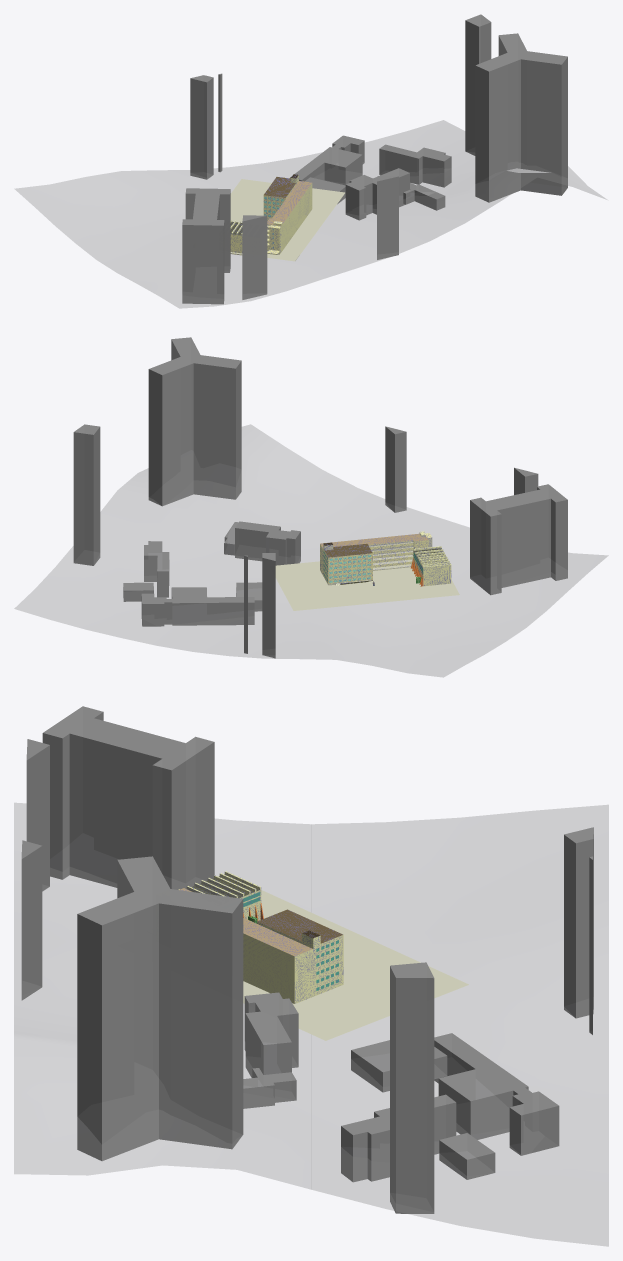
Rendered from Output_STMC_cad(Overlay).dae.
The picture shows the model from 3 angles, top to bottom: view 1: azimuth 30°, elevation 25°; view 2: azimuth 150°, elevation 25°; view 3: azimuth 270°, elevation 25°; orthographic projection. The views are drawn at different scales.
Parts seen in each view (by area): view 1: group_85, group_14, group_4, image_0, STMC_import (×4), group_49, group_15, group_22, group_16, group_70, group_51, group_65 (+2 smaller); view 2: group_85, group_14, group_4, image_0, STMC_import (×5), group_15, group_16, group_65, group_51, group_49, group_22, group_70 (+2 smaller); view 3: group_85, group_14, group_4, group_15, group_16, STMC_import (×4), image_0, group_49, group_65, group_22, group_51, group_70 (+4 smaller).
Part boxes in pixels (bbox=[...]): group_85: bbox=[15, 120, 606, 308]; group_14: bbox=[475, 33, 567, 202]; group_4: bbox=[182, 188, 230, 304]; image_0: bbox=[230, 179, 344, 261]; STMC_import (×4): bbox=[230, 175, 312, 255]; group_49: bbox=[190, 75, 213, 179]; group_15: bbox=[465, 14, 491, 155]; group_22: bbox=[379, 144, 451, 187]; group_16: bbox=[290, 135, 364, 184]; group_70: bbox=[242, 215, 267, 299]; group_51: bbox=[377, 176, 398, 259]; group_65: bbox=[345, 168, 409, 220]; group_85: bbox=[14, 424, 608, 677]; group_14: bbox=[148, 337, 241, 506]; group_4: bbox=[470, 484, 567, 595]; image_0: bbox=[275, 561, 459, 610]; STMC_import (×5): bbox=[320, 533, 451, 586]; group_15: bbox=[73, 424, 100, 565]; group_16: bbox=[141, 587, 254, 626]; group_65: bbox=[235, 521, 300, 565]; group_51: bbox=[385, 426, 406, 512]; group_49: bbox=[262, 553, 275, 658]; group_22: bbox=[144, 541, 169, 597]; group_70: bbox=[514, 467, 538, 494]; group_85: bbox=[14, 803, 608, 1246]; group_14: bbox=[77, 856, 243, 1160]; group_4: bbox=[42, 706, 214, 889]; group_15: bbox=[390, 962, 434, 1213]; group_16: bbox=[434, 1033, 559, 1155]; STMC_import (×4): bbox=[178, 871, 343, 1003]; image_0: bbox=[243, 890, 468, 1040]; group_49: bbox=[564, 827, 593, 1018]; group_65: bbox=[244, 992, 298, 1077]; group_22: bbox=[341, 1094, 456, 1182]; group_51: bbox=[21, 840, 42, 1000]; group_70: bbox=[26, 739, 49, 891].
Bounding box in the file's own units: 14173 × 9449 × 5481.
